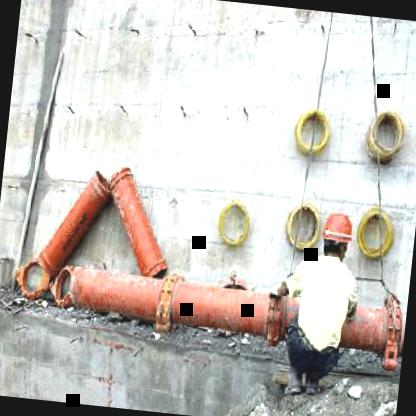helmet: (317, 208, 358, 266)
